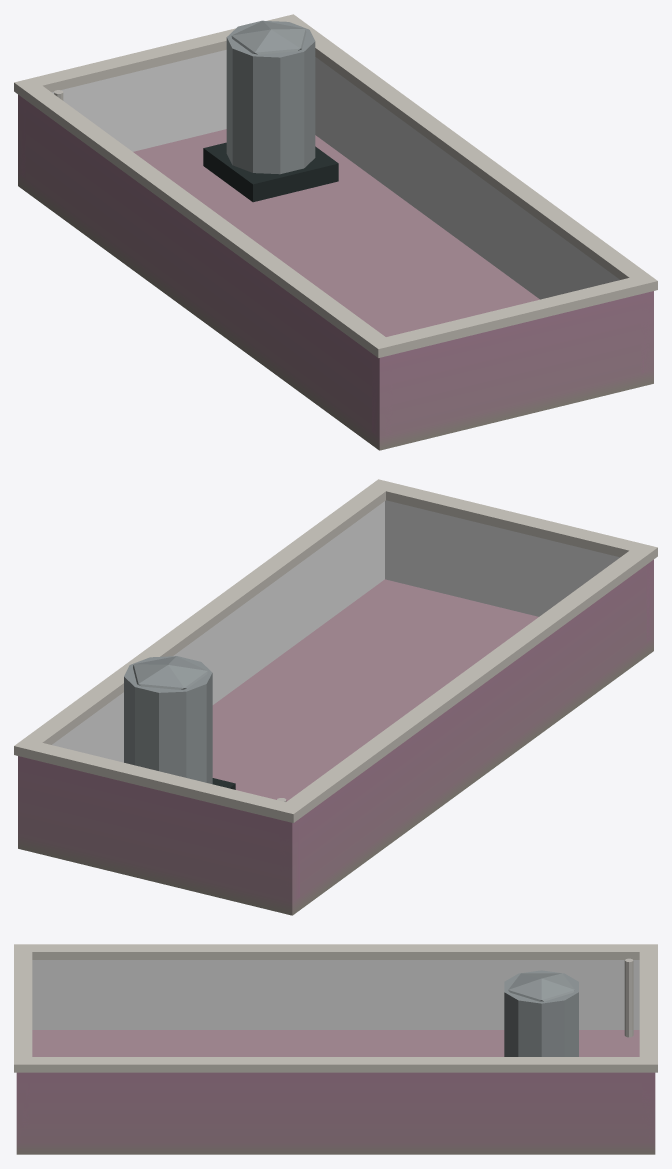
File: mai_san_thuong_32.glb
The picture shows the model from 3 angles, top to bottom: view 1: azimuth 30°, elevation 25°; view 2: azimuth 150°, elevation 25°; view 3: azimuth 270°, elevation 25°; orthographic projection. The views are drawn at different scales.
Parts seen in each view (by area): view 1: mai_san_thuong_32; view 2: mai_san_thuong_32; view 3: mai_san_thuong_32.
Part boxes in pixels (x1,y1,x2,y2): mai_san_thuong_32: (14, 14, 657, 450); mai_san_thuong_32: (14, 479, 657, 915); mai_san_thuong_32: (14, 944, 657, 1154).
Size of the model in its own units: 3.26 by 1.76 by 7.36.
